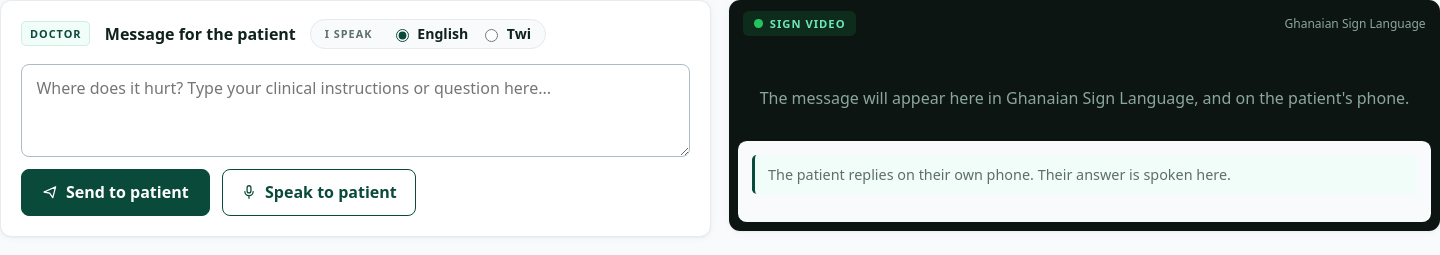
Test: sending the message to the patient's phone › sends nothing while the sentence is held behind the gate
Type "Where does it hurt?" into the text box named "message for the patient". click: (356, 110)
box: x1=21 y1=64 x2=690 y2=157
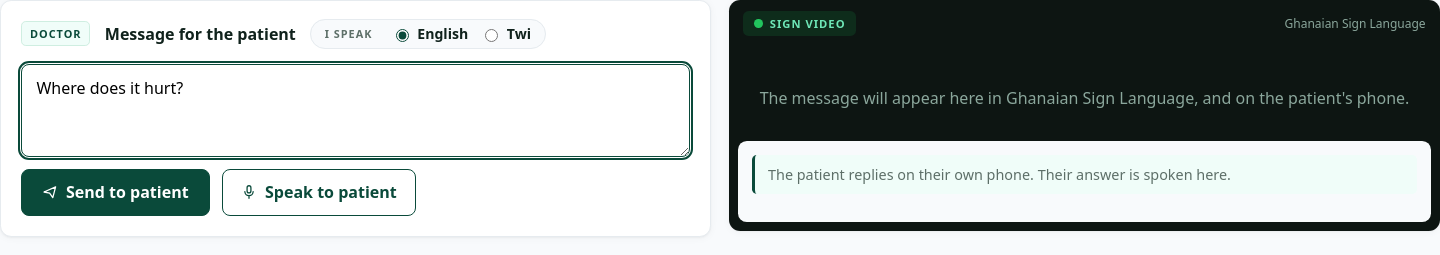
Click the button "Send to patient". click: (115, 192)
box: x1=21 y1=169 x2=210 y2=216
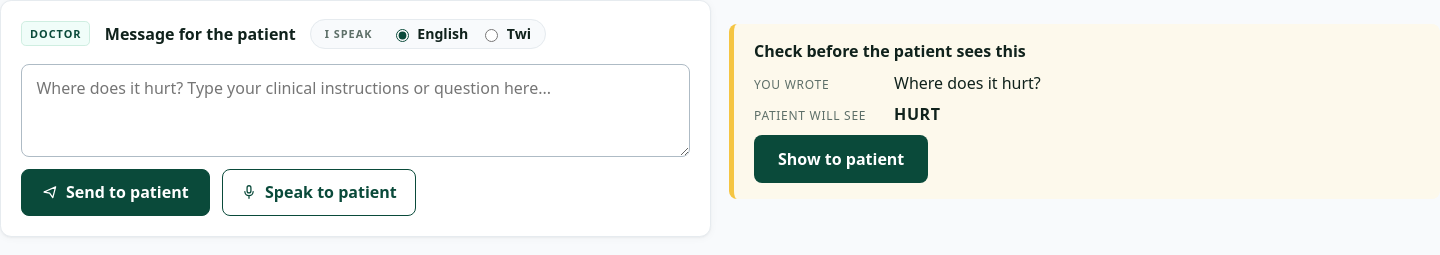
Now the element with test id "utterance-confirm" is shown, box x1=729 y1=24 x2=1439 y2=199
